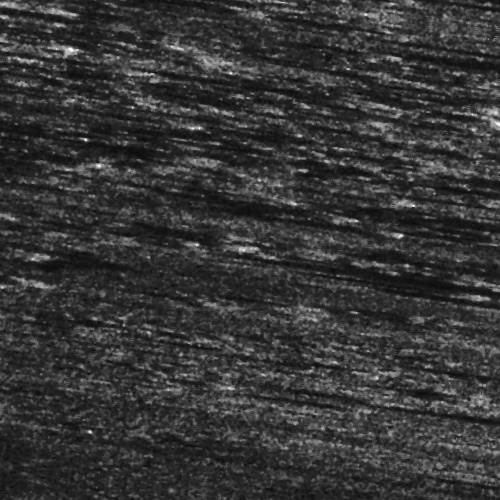object: (133, 158, 216, 169), (74, 82, 167, 91), (355, 132, 438, 141), (311, 53, 384, 62), (339, 207, 422, 214), (0, 15, 53, 24), (294, 196, 347, 205), (12, 306, 65, 315), (0, 36, 49, 43), (430, 258, 483, 263), (321, 81, 352, 88), (175, 0, 238, 1)
shadow: (304, 250, 500, 261), (12, 158, 175, 169), (170, 196, 320, 205), (176, 81, 336, 88), (377, 371, 500, 380), (233, 207, 380, 214), (6, 82, 120, 91), (239, 53, 347, 62), (293, 132, 396, 141), (350, 17, 500, 22), (435, 332, 500, 343), (316, 258, 456, 263), (369, 189, 500, 194), (416, 28, 500, 33), (0, 306, 39, 315), (406, 263, 500, 266), (37, 0, 206, 1)
